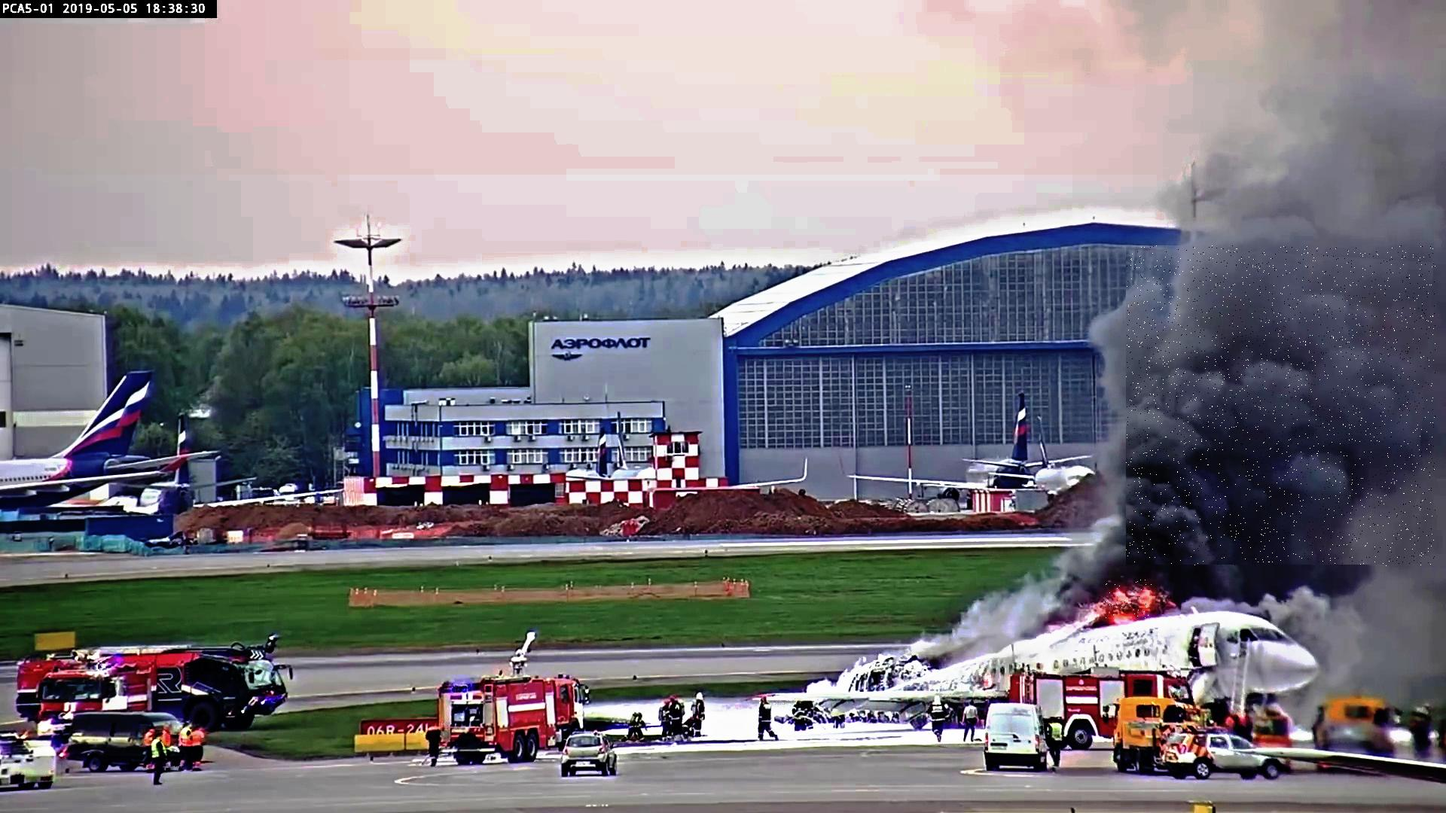fire: (1106, 578, 1154, 619)
smoke: (1126, 246, 1436, 567)
